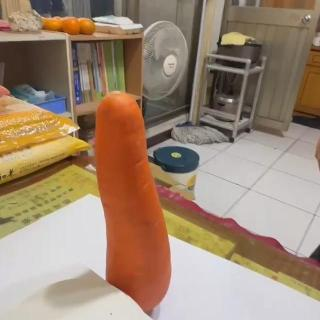carrot: (93, 91, 173, 317)
